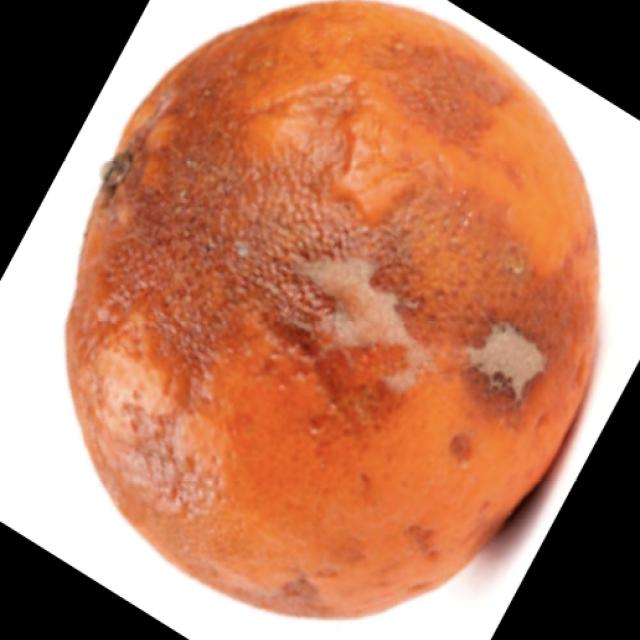sedikit_busuk: (74, 10, 596, 620)
